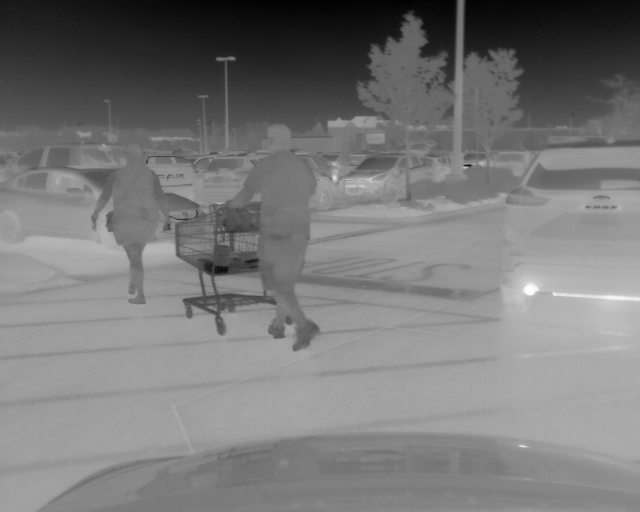car: (498, 140, 640, 320), (1, 168, 205, 251), (191, 154, 336, 208), (340, 149, 445, 203), (3, 143, 121, 170), (494, 150, 535, 180), (461, 150, 495, 173)
people: (219, 124, 321, 353), (91, 143, 167, 305)
